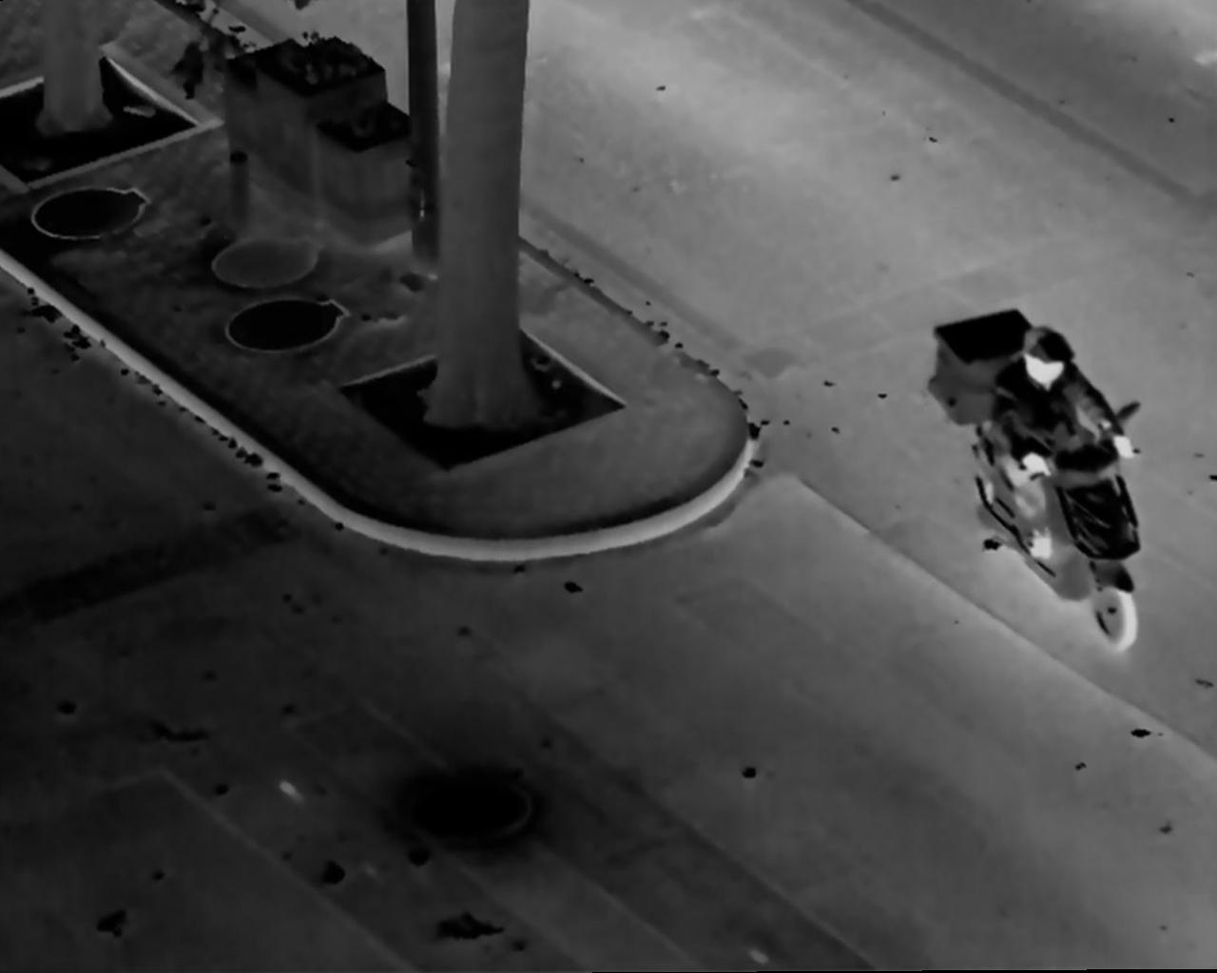person: (991, 324, 1139, 520)
